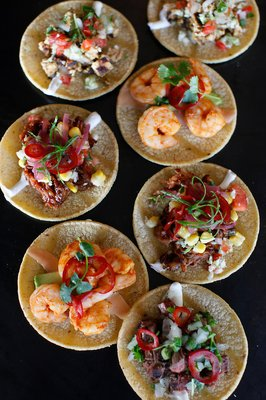sushi: (17, 219, 150, 351), (19, 0, 138, 101)
